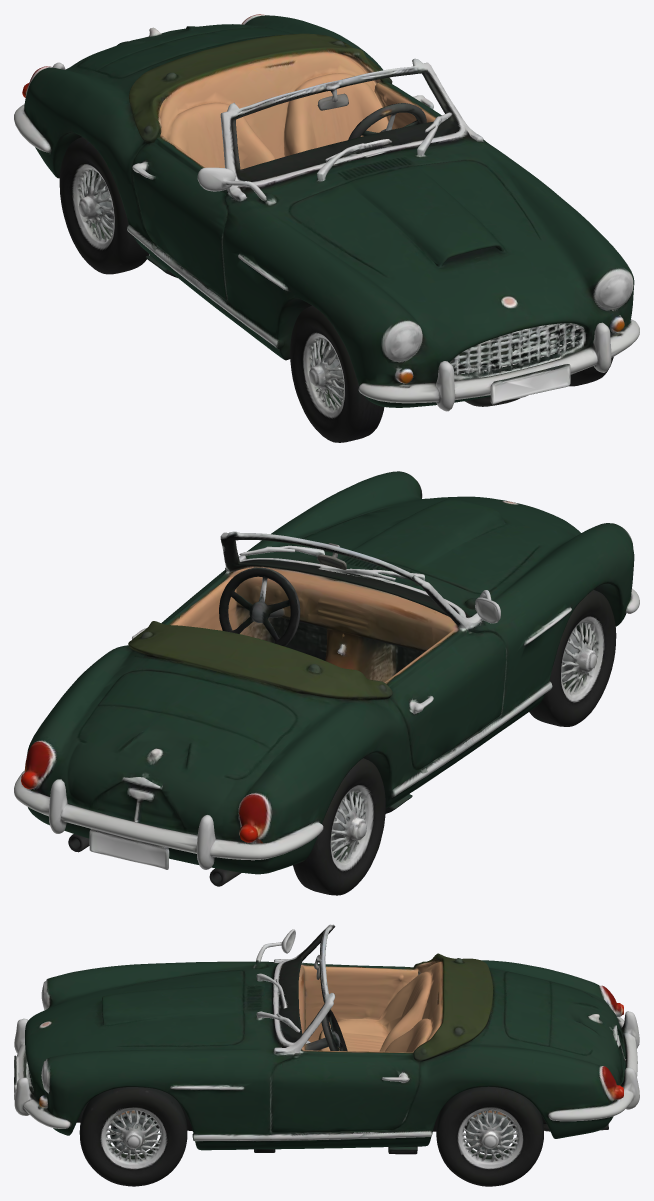
The model's file is 019_roadster_green_british.glb.
3 renders of one model, top to bottom at view 1: azimuth 30°, elevation 25°; view 2: azimuth 150°, elevation 25°; view 3: azimuth 270°, elevation 25°, orthographic. The views are drawn at different scales.
Visible parts, largest first — view 1: geometry_0; view 2: geometry_0; view 3: geometry_0.
Boxes of the visible parts, box(x1,y1,x2,y2) form: geometry_0: box(14, 14, 639, 442); geometry_0: box(14, 471, 639, 895); geometry_0: box(14, 924, 639, 1186).
Bounding box in the file's own units: 1.78 × 1.35 × 4.2.
1 material, 1 textured.
